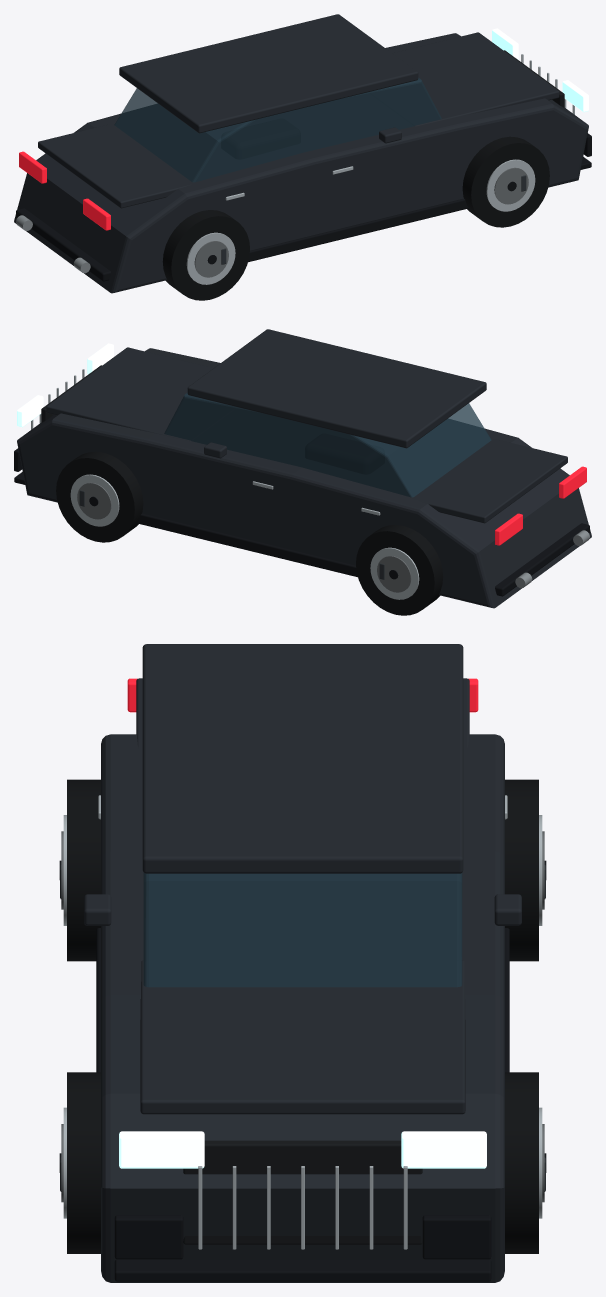
Rendered from lambo_urus.glb.
The picture shows the model from 3 angles, top to bottom: view 1: azimuth 30°, elevation 25°; view 2: azimuth 150°, elevation 25°; view 3: azimuth 270°, elevation 25°; orthographic projection. The views are drawn at different scales.
Visible parts, largest first — view 1: sculpted_body, roof, glasshouse, hood_center, rear_deck, rear_right_wheel_tire, front_right_wheel_tire, side_skirt_1, seat_1, rear_diffuser, front_right_wheel_rim, rear_right_wheel_rim (+6 smaller); view 2: sculpted_body, roof, glasshouse, hood_center, rear_deck, rear_left_wheel_tire, front_left_wheel_tire, side_skirt_-1, seat_-1, rear_diffuser, front_left_wheel_rim, rear_left_wheel_rim (+6 smaller); view 3: sculpted_body, roof, hood_center, glasshouse, front_grille, front_splitter, front_left_wheel_tire, front_right_wheel_tire, rear_left_wheel_tire, rear_right_wheel_tire, headlight_left, headlight_right (+5 smaller).
Boxes of the visible parts, box(x1,y1,x2,y2) form: sculpted_body: box(14, 33, 588, 293); roof: box(119, 14, 418, 133); glasshouse: box(114, 77, 441, 182); hood_center: box(369, 32, 559, 126); rear_deck: box(38, 124, 193, 208); rear_right_wheel_tire: box(162, 210, 249, 300); front_right_wheel_tire: box(462, 136, 549, 227); side_skirt_1: box(248, 198, 468, 262); seat_1: box(221, 119, 300, 158); rear_diffuser: box(16, 208, 110, 281); front_right_wheel_rim: box(486, 159, 535, 211); rear_right_wheel_rim: box(186, 232, 235, 284); sculpted_body: box(17, 348, 591, 608); roof: box(187, 329, 486, 448); glasshouse: box(164, 392, 491, 497); hood_center: box(46, 347, 236, 441); rear_deck: box(412, 439, 567, 523); rear_left_wheel_tire: box(356, 525, 443, 615); front_left_wheel_tire: box(56, 451, 143, 542); side_skirt_-1: box(137, 513, 357, 577); seat_-1: box(305, 434, 384, 473); rear_diffuser: box(495, 523, 589, 596); front_left_wheel_rim: box(70, 474, 119, 526); rear_left_wheel_rim: box(370, 547, 419, 599); sculpted_body: box(101, 734, 504, 1282); roof: box(142, 644, 463, 873); hood_center: box(140, 960, 465, 1114); glasshouse: box(143, 873, 462, 987); front_grille: box(183, 1140, 422, 1244); front_splitter: box(114, 1259, 491, 1281); front_left_wheel_tire: box(505, 1072, 538, 1253); front_right_wheel_tire: box(67, 1072, 100, 1253); rear_left_wheel_tire: box(505, 779, 538, 961); rear_right_wheel_tire: box(67, 779, 100, 961); headlight_left: box(401, 1131, 486, 1168); headlight_right: box(119, 1131, 204, 1168).
Size of the model in its own units: 5.46 by 1.65 by 2.3.
